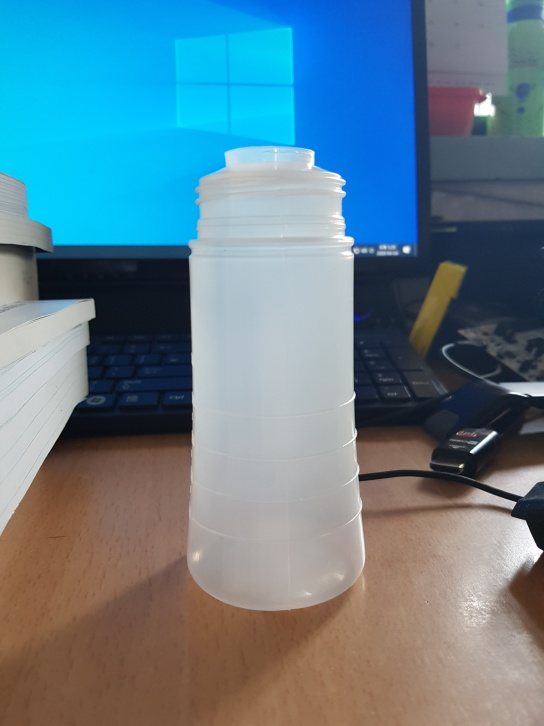Plastic: (182, 142, 368, 615)
